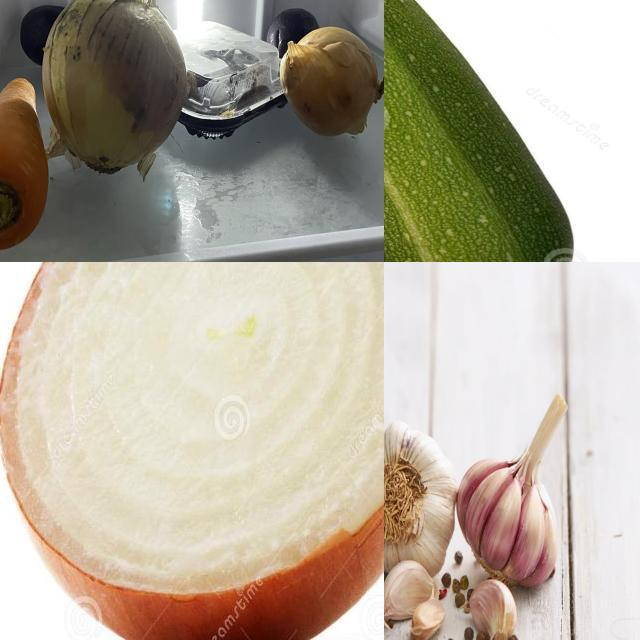carrot: (1, 74, 54, 250)
eggplant: (18, 1, 72, 70), (269, 7, 325, 59)
garlic: (450, 395, 572, 591), (385, 421, 459, 584), (385, 562, 446, 640), (471, 578, 520, 640)
onion: (1, 263, 385, 640), (44, 1, 188, 171), (281, 28, 385, 143)
zucchini: (385, 1, 600, 263)
